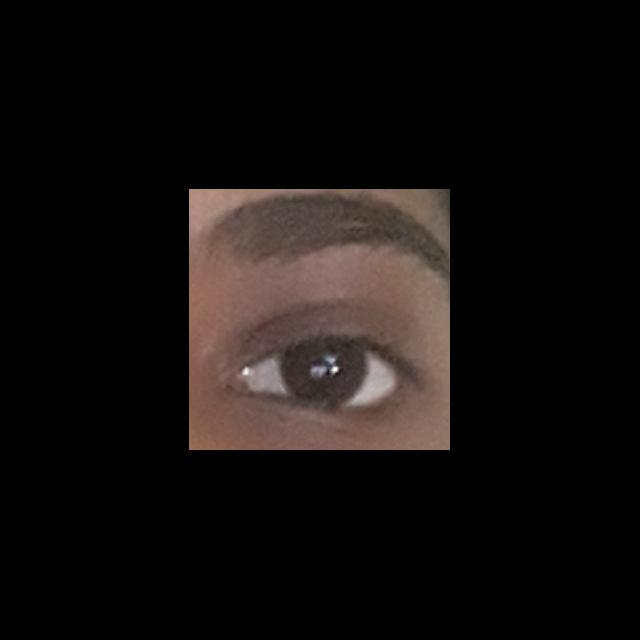eye: (247, 341, 400, 405)
iris: (280, 343, 370, 402)
